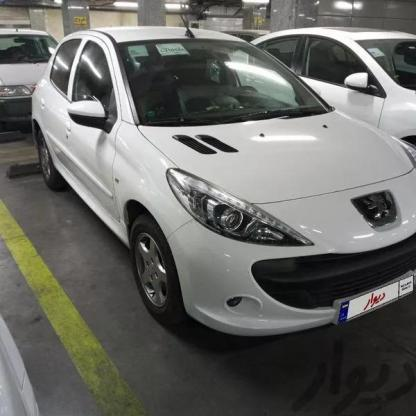Car: (33, 0, 416, 384), (195, 0, 416, 208), (0, 16, 78, 145)
